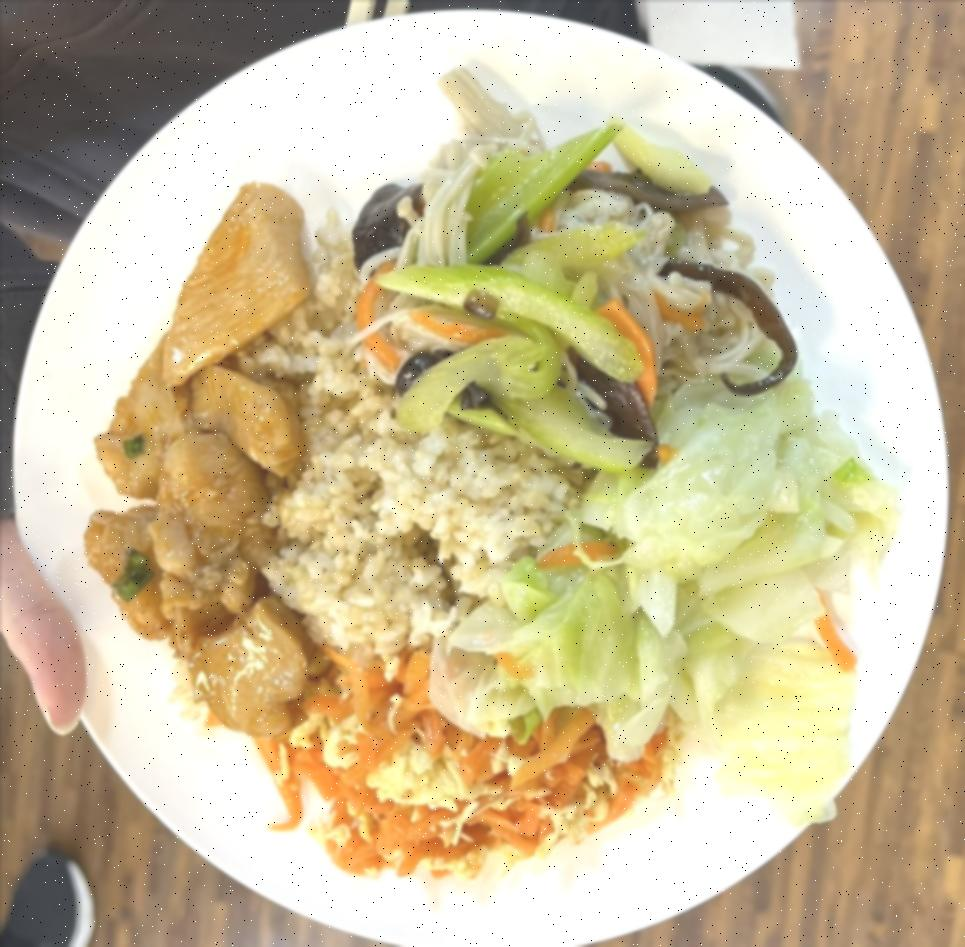big fried chicken leg: (0, 4, 949, 947)
box: (277, 420, 558, 664)
braised fish fillet: (436, 376, 891, 822), (356, 68, 772, 464), (284, 673, 660, 880)
braised pork: (81, 181, 310, 750)
